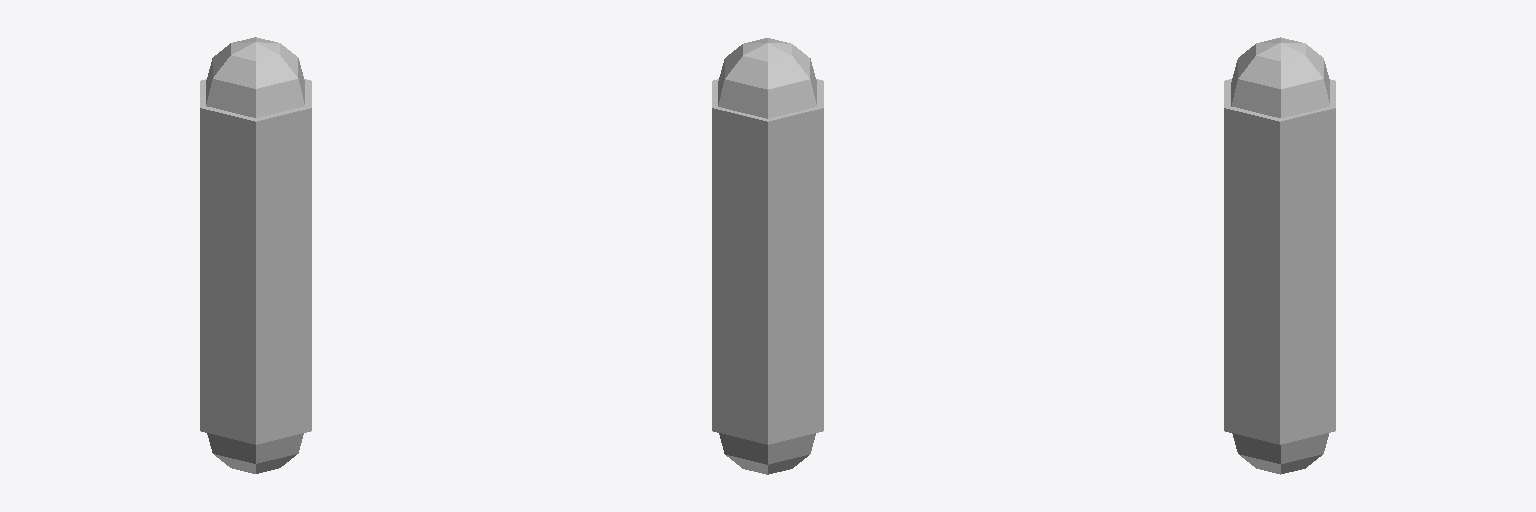
The model's file is Avatar.obj.
3 renders of one model, left to right at view 1: azimuth 30°, elevation 25°; view 2: azimuth 150°, elevation 25°; view 3: azimuth 270°, elevation 25°, orthographic.
Parts seen in each view (by area): view 1: Cylinder02, Duplicate01, Sphere01; view 2: Cylinder02, Duplicate01, Sphere01; view 3: Cylinder02, Duplicate01, Sphere01.
Part boxes in pixels (bbox=[...]): Cylinder02: bbox=[200, 79, 311, 444]; Duplicate01: bbox=[206, 37, 304, 117]; Sphere01: bbox=[207, 433, 303, 473]; Cylinder02: bbox=[712, 79, 823, 444]; Duplicate01: bbox=[718, 38, 816, 118]; Sphere01: bbox=[719, 433, 815, 474]; Cylinder02: bbox=[1224, 79, 1335, 444]; Duplicate01: bbox=[1231, 37, 1329, 117]; Sphere01: bbox=[1232, 433, 1328, 474].
Bounding box in the file's own units: 0.208 × 0.7601 × 0.1801.